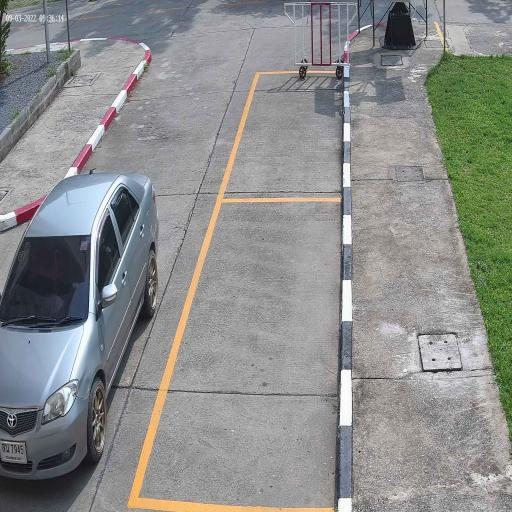car: (0, 168, 161, 484)
